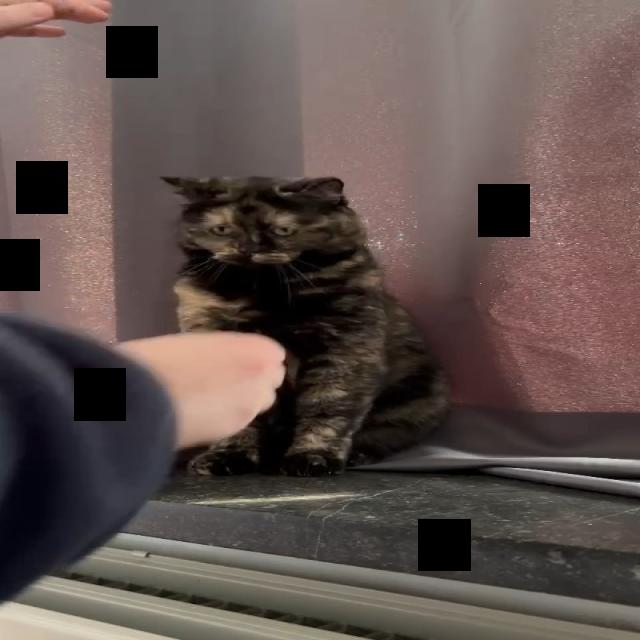authorized: (159, 174, 452, 477)
